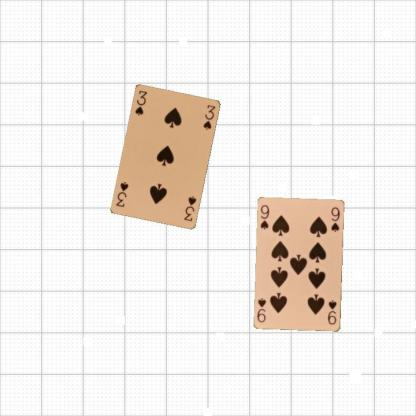3s: (132, 88, 148, 117), (182, 193, 198, 222)
9s: (325, 297, 338, 326), (258, 203, 270, 231)
